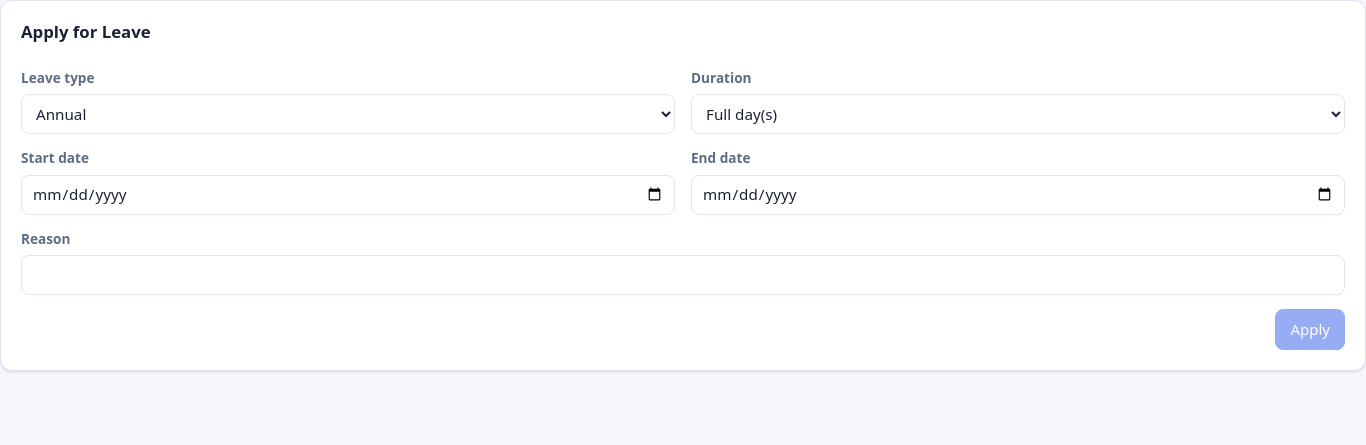
Test case: ApplyLeaveForm › shows the API error message when the server refuses
This screenshot has width=1366, height=445.
Type "2026-03-02" into the date field labelled "Start date" at (348, 195), box [21,175,675,215]
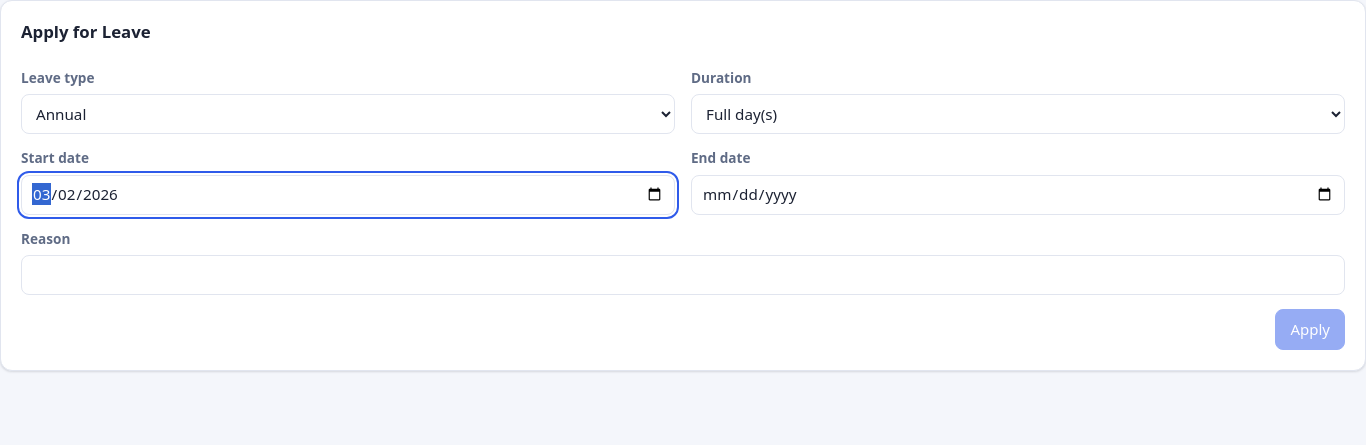
Type "2026-03-06" into the date field labelled "End date" at (1018, 195), box [691,175,1345,215]
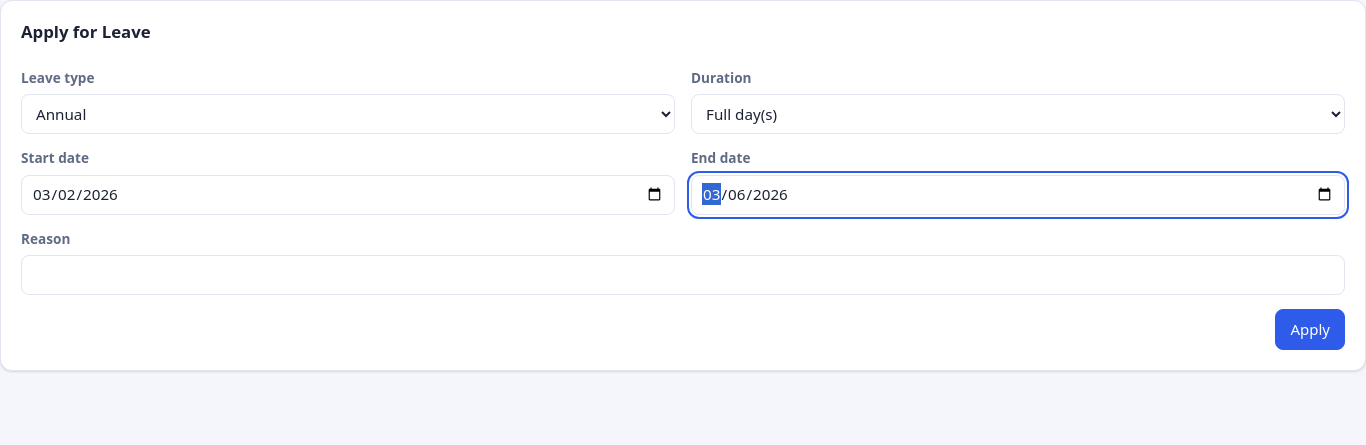
Click the button "Apply" at (1310, 329), box [1275,309,1345,350]
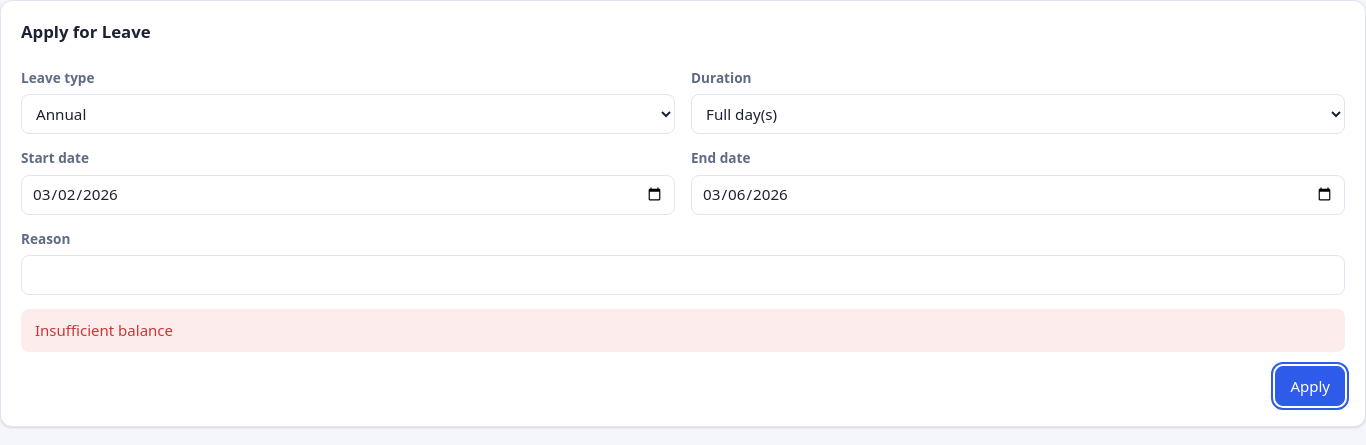
Check: the message reads "Insufficient balance", box [35,320,173,340]
